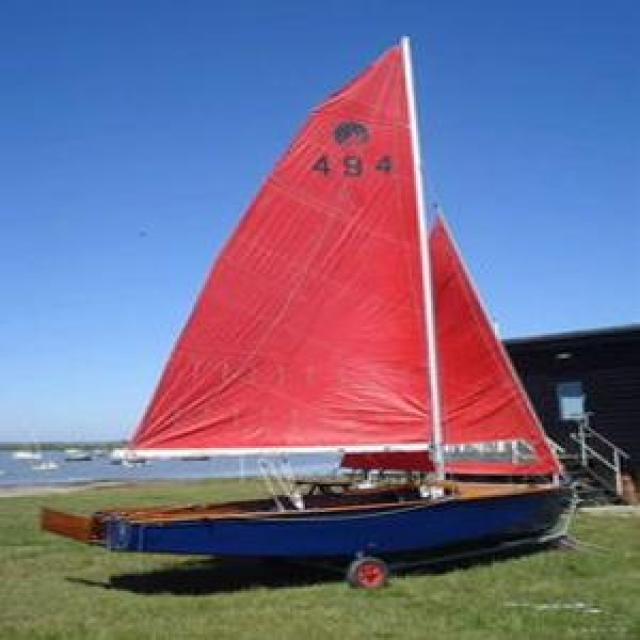sailboat: (37, 36, 576, 563)
